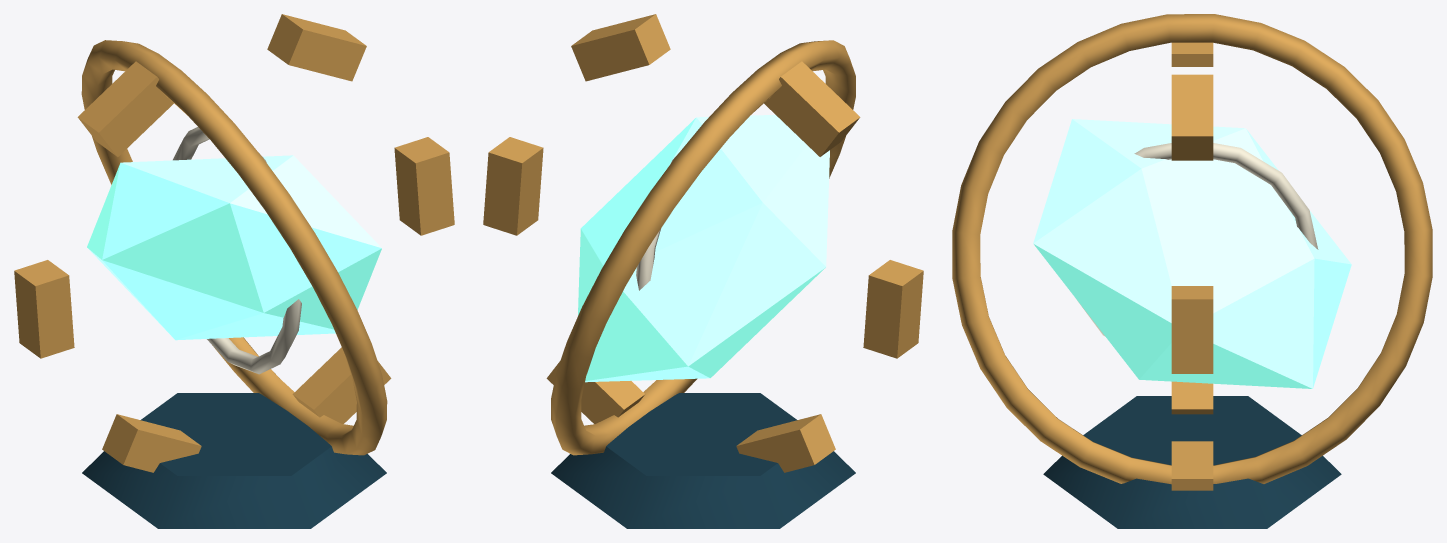
File: relic-08.glb
The picture shows the model from 3 angles, left to right: view 1: azimuth 30°, elevation 25°; view 2: azimuth 150°, elevation 25°; view 3: azimuth 270°, elevation 25°; orthographic projection. The views are drawn at different scales.
Visible parts, largest first — view 1: aged-brass-merged, aether-glass-merged, deep-basalt-merged, chalk-sail-merged; view 2: aged-brass-merged, aether-glass-merged, deep-basalt-merged, chalk-sail-merged; view 3: aether-glass-merged, aged-brass-merged, deep-basalt-merged, chalk-sail-merged.
Part boxes in pixels (x1,y1,x2,y2): aged-brass-merged: (14, 14, 454, 472); aether-glass-merged: (87, 155, 381, 340); deep-basalt-merged: (82, 393, 386, 528); chalk-sail-merged: (173, 127, 301, 374); aged-brass-merged: (483, 14, 923, 472); aether-glass-merged: (578, 114, 829, 382); deep-basalt-merged: (551, 393, 855, 528); chalk-sail-merged: (636, 153, 678, 290); aether-glass-merged: (1033, 119, 1351, 388); aged-brass-merged: (952, 14, 1432, 490); deep-basalt-merged: (1043, 396, 1341, 528); chalk-sail-merged: (1078, 143, 1318, 336).
Size of the model in its own units: 1.36 by 1.36 by 1.38.
